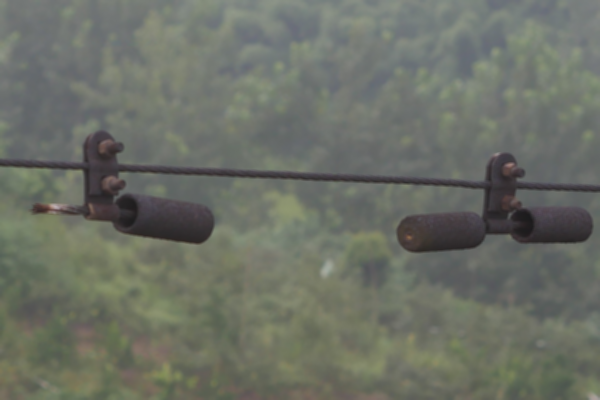damper: (393, 147, 597, 254)
damper_defect: (22, 126, 218, 246)
